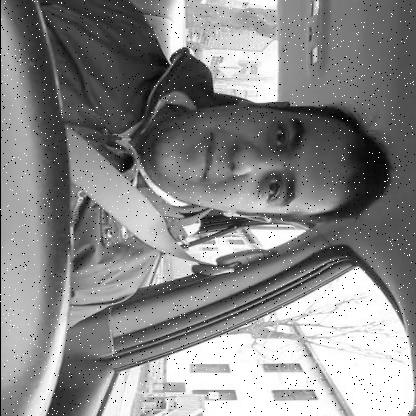seatbelt: (28, 96, 394, 288)
